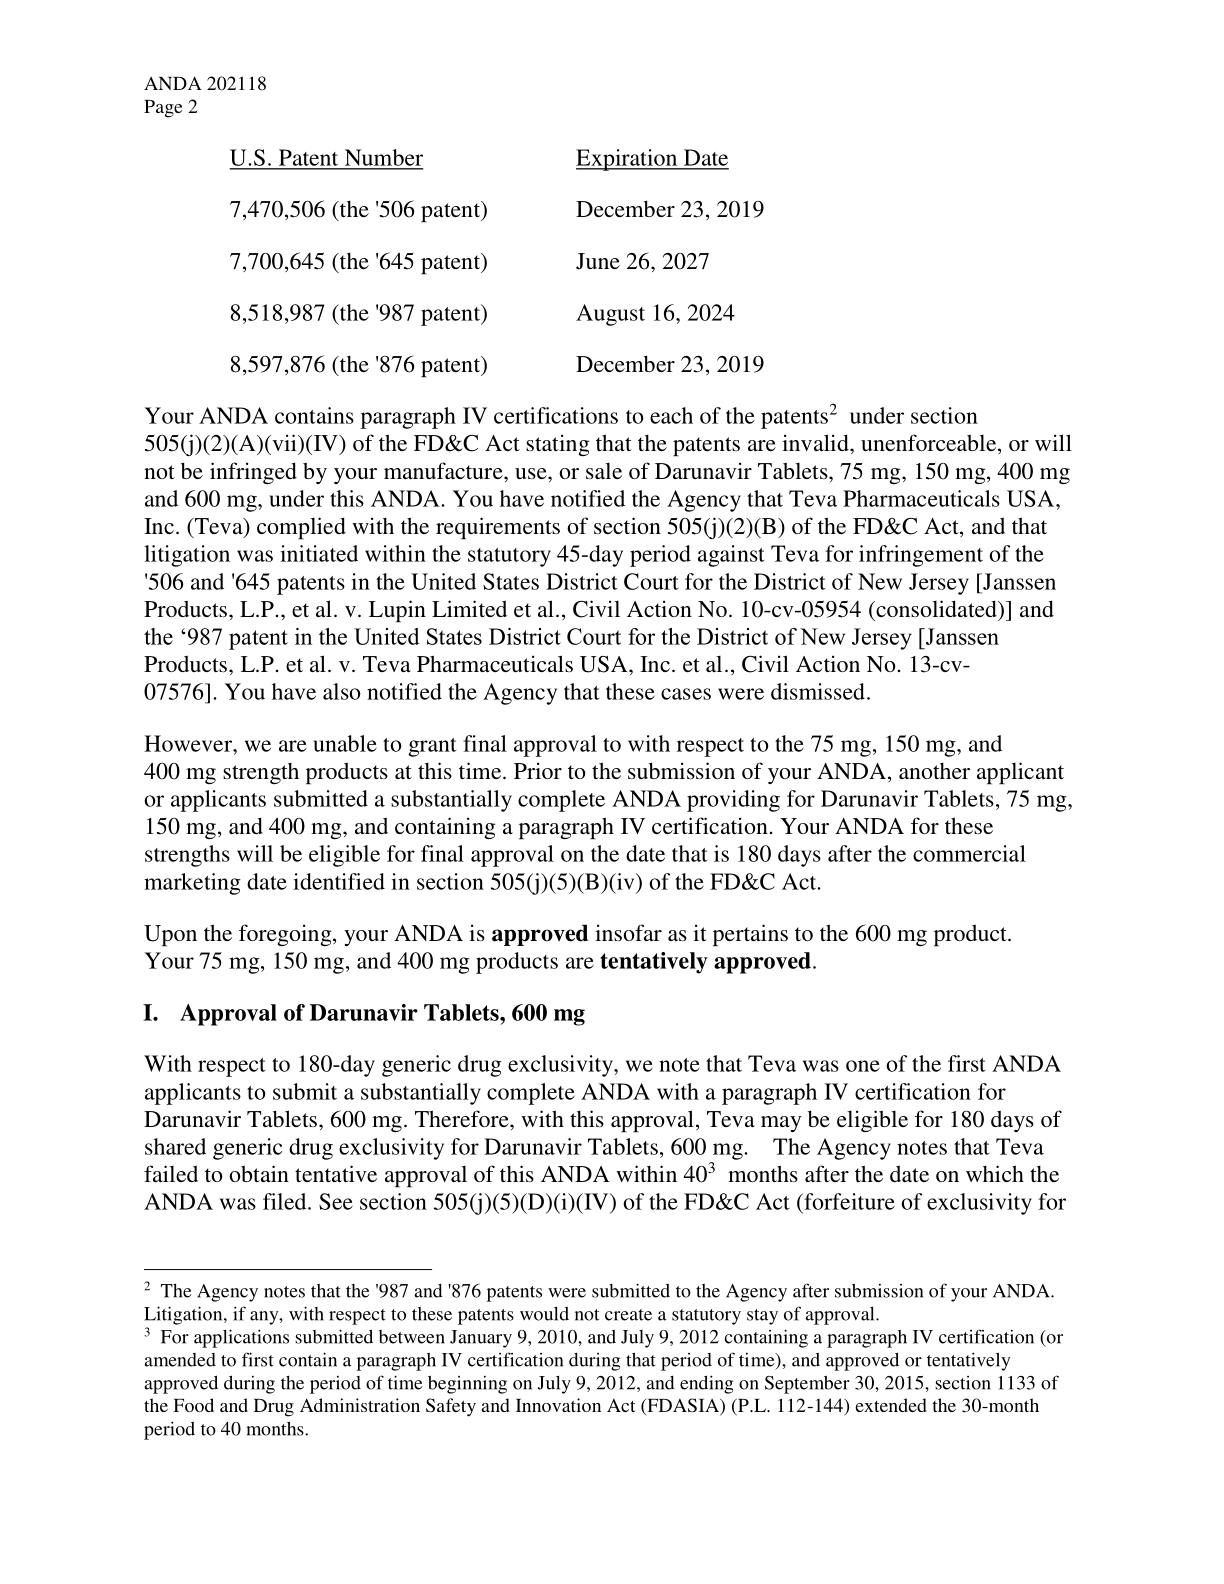nolines: (222, 145, 765, 377)
